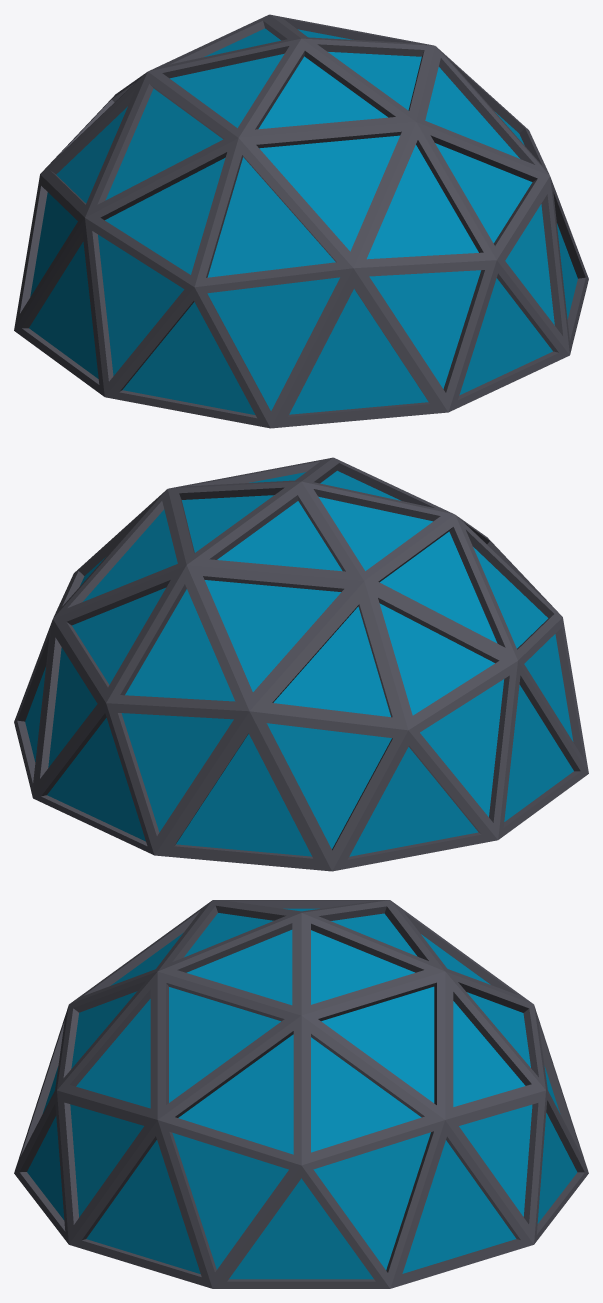
Rendered from SubHouse.fbx.
The picture shows the model from 3 angles, top to bottom: view 1: azimuth 30°, elevation 25°; view 2: azimuth 150°, elevation 25°; view 3: azimuth 270°, elevation 25°; orthographic projection. The views are drawn at different scales.
Parts seen in each view (by area): view 1: Icosphere.001; view 2: Icosphere.001; view 3: Icosphere.001.
Boxes of the visible parts, x1,y1,x2,y2 form: Icosphere.001: (14, 14, 588, 428); Icosphere.001: (14, 457, 588, 871); Icosphere.001: (14, 900, 588, 1288).
Size of the model in its own units: 1372 by 721 by 1443.
